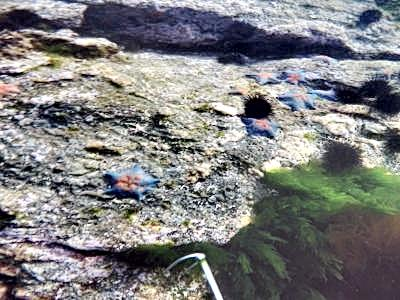urchin: (322, 137, 355, 169), (244, 94, 269, 117), (217, 51, 247, 66), (362, 76, 384, 96), (379, 91, 396, 114)
